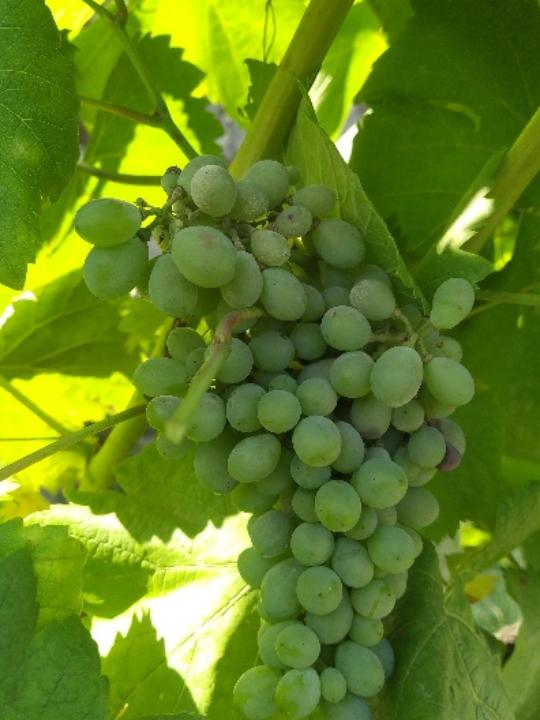grape: (66, 151, 481, 720)
